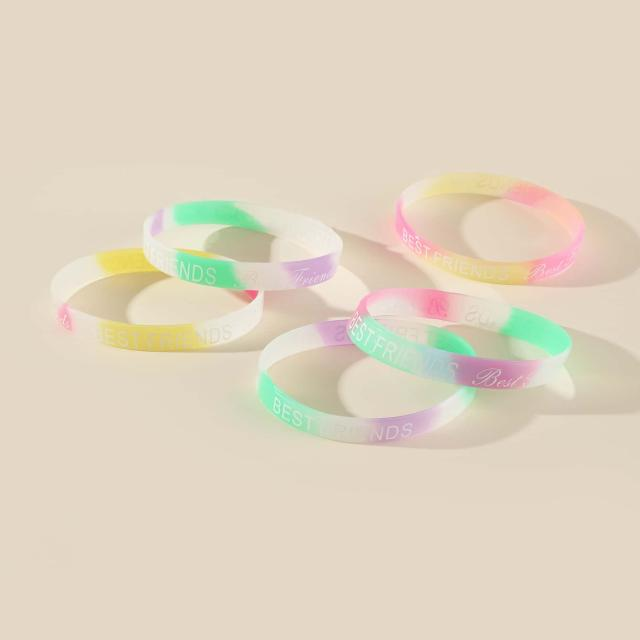bracelet: (0, 111, 640, 512)
